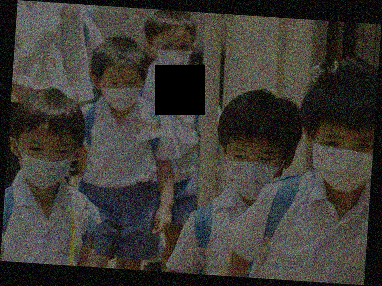with_mask: (309, 130, 372, 195), (225, 144, 283, 202), (17, 138, 72, 191), (99, 72, 142, 112), (153, 38, 192, 77)
